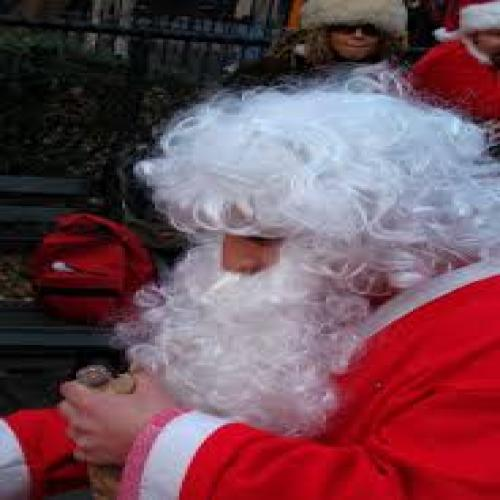Santa: (0, 86, 500, 500)
